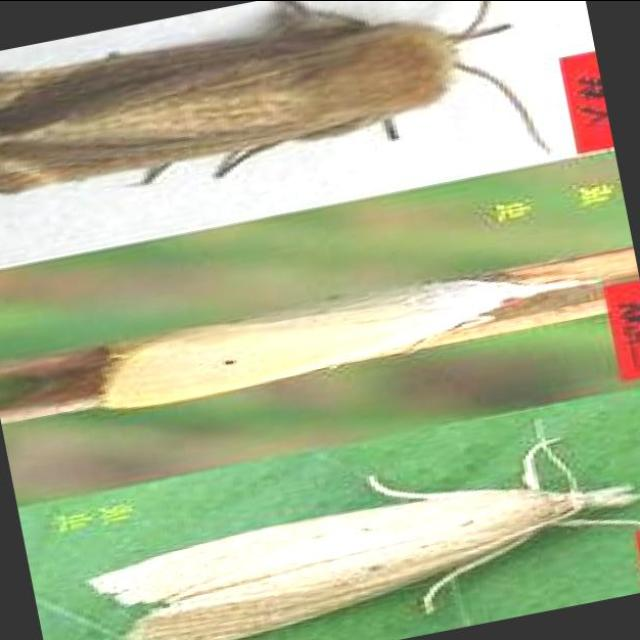stem borer: (92, 424, 640, 640), (0, 0, 551, 193), (89, 278, 573, 406)
